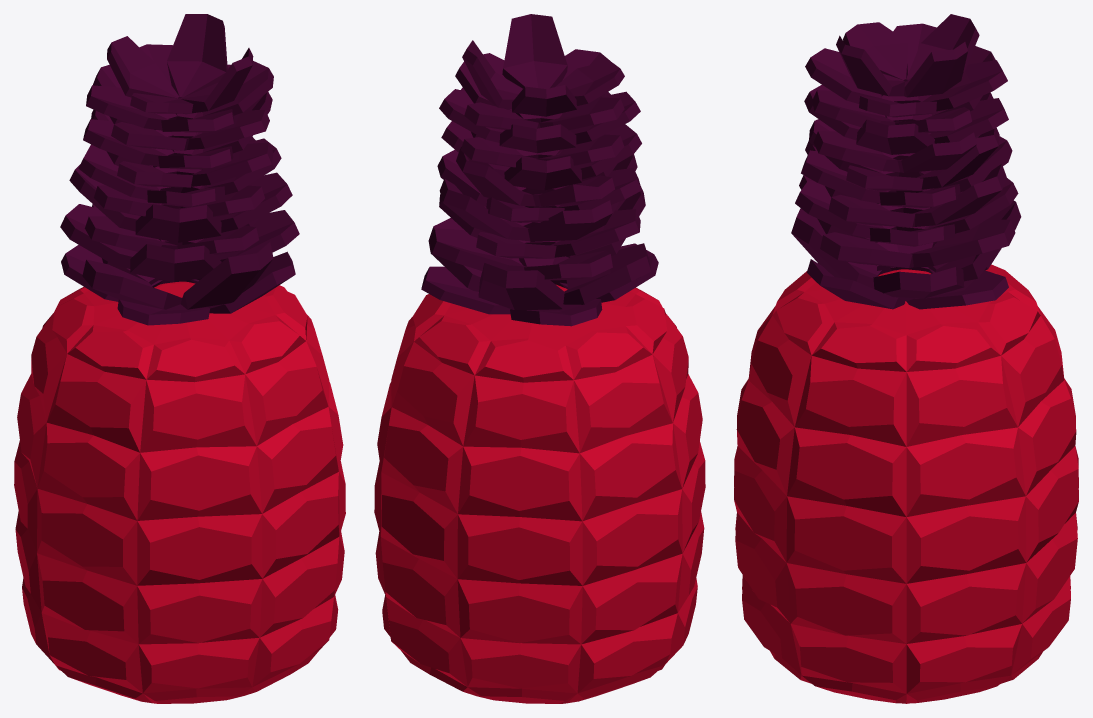
The model's file is Pineapple_01.fbx.
The picture shows the model from 3 angles, left to right: view 1: azimuth 30°, elevation 25°; view 2: azimuth 150°, elevation 25°; view 3: azimuth 270°, elevation 25°; orthographic projection. The views are drawn at different scales.
Parts seen in each view (by area): view 1: Pineapple_01; view 2: Pineapple_01; view 3: Pineapple_01.
Part boxes in pixels (bbox=[...]): Pineapple_01: bbox=[14, 14, 345, 703]; Pineapple_01: bbox=[374, 14, 705, 703]; Pineapple_01: bbox=[734, 14, 1078, 703].
Size of the model in its own units: 4.92 by 10.11 by 4.92.
